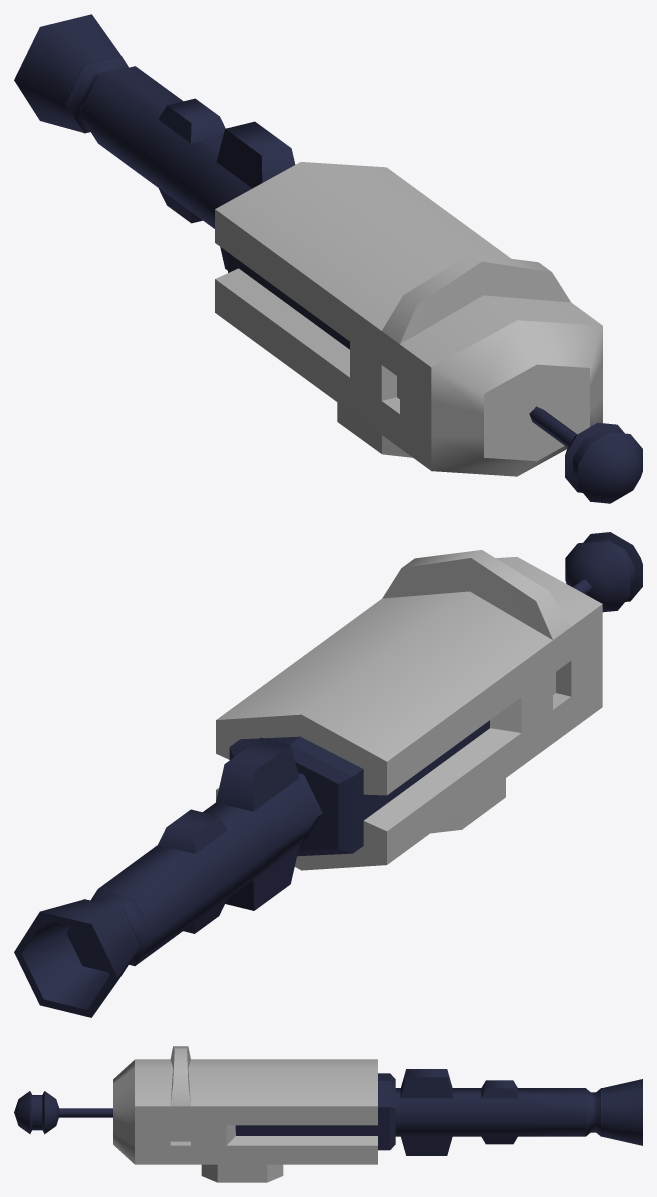
Rendered from Turret Top.FBX.
3 views of the same model, one above another, from view 1: azimuth 30°, elevation 25°; view 2: azimuth 150°, elevation 25°; view 3: azimuth 270°, elevation 25° (orthographic). The views are drawn at different scales.
Visible parts, largest first — view 1: Cylinder002, Cylinder003, Sphere001, Cylinder004, Cylinder005; view 2: Cylinder002, Cylinder003, Cylinder004, Sphere001; view 3: Cylinder002, Cylinder003, Cylinder004, Sphere001, Cylinder005.
Part boxes in pixels (box(x1,y1,x2,y2)): Cylinder002: box(215, 162, 602, 476); Cylinder003: box(14, 14, 295, 270); Sphere001: box(565, 422, 642, 503); Cylinder004: box(228, 252, 349, 349); Cylinder005: box(529, 406, 576, 447); Cylinder002: box(216, 550, 602, 870); Cylinder003: box(14, 737, 322, 1017); Cylinder004: box(229, 720, 489, 856); Sphere001: box(565, 532, 642, 612); Cylinder002: box(113, 1046, 377, 1182); Cylinder003: box(395, 1069, 642, 1155); Cylinder004: box(235, 1073, 395, 1150); Sphere001: box(14, 1091, 59, 1134); Cylinder005: box(59, 1108, 112, 1117).
Size of the model in its own units: 18.45 by 21.12 by 104.
